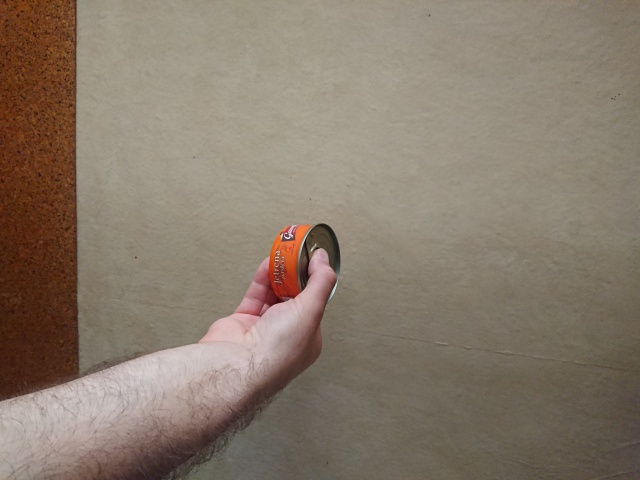Gavrilovic Pork Liver Pate 100g: (267, 220, 342, 307)
